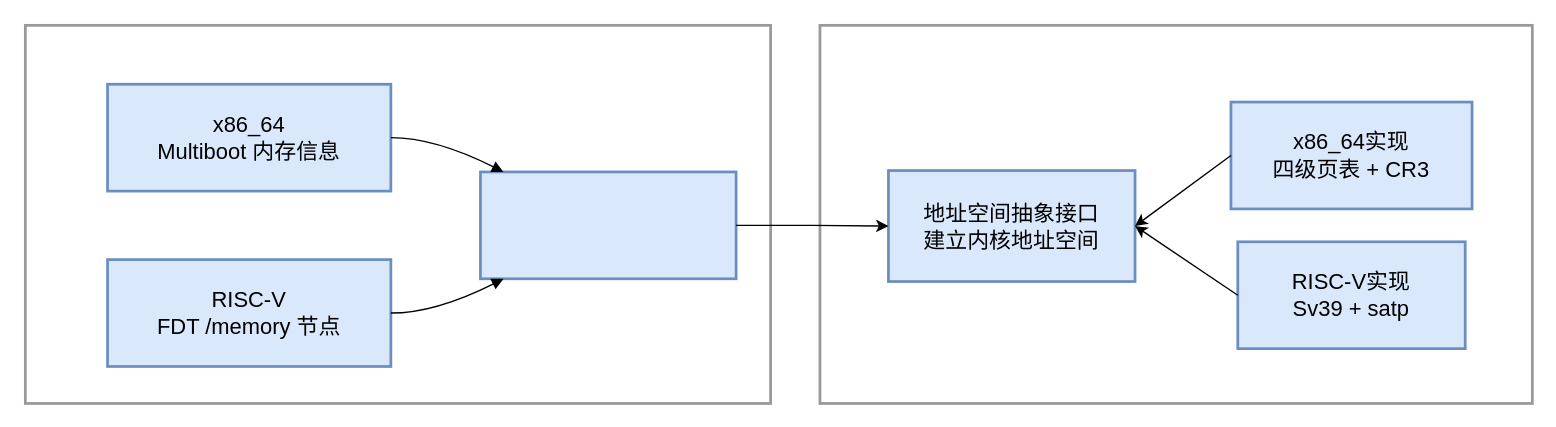
Image size: 1556x427. Some labels were removed from this diagram. The box of each missing label's shape, as (x1, y1, x2, y2) in pixels:
物理内存管理: (23, 23, 771, 404)
统一物理页帧管理器 裁剪低地址与内核ELF: (478, 170, 737, 279)
虚拟内存管理: (818, 23, 1533, 404)
